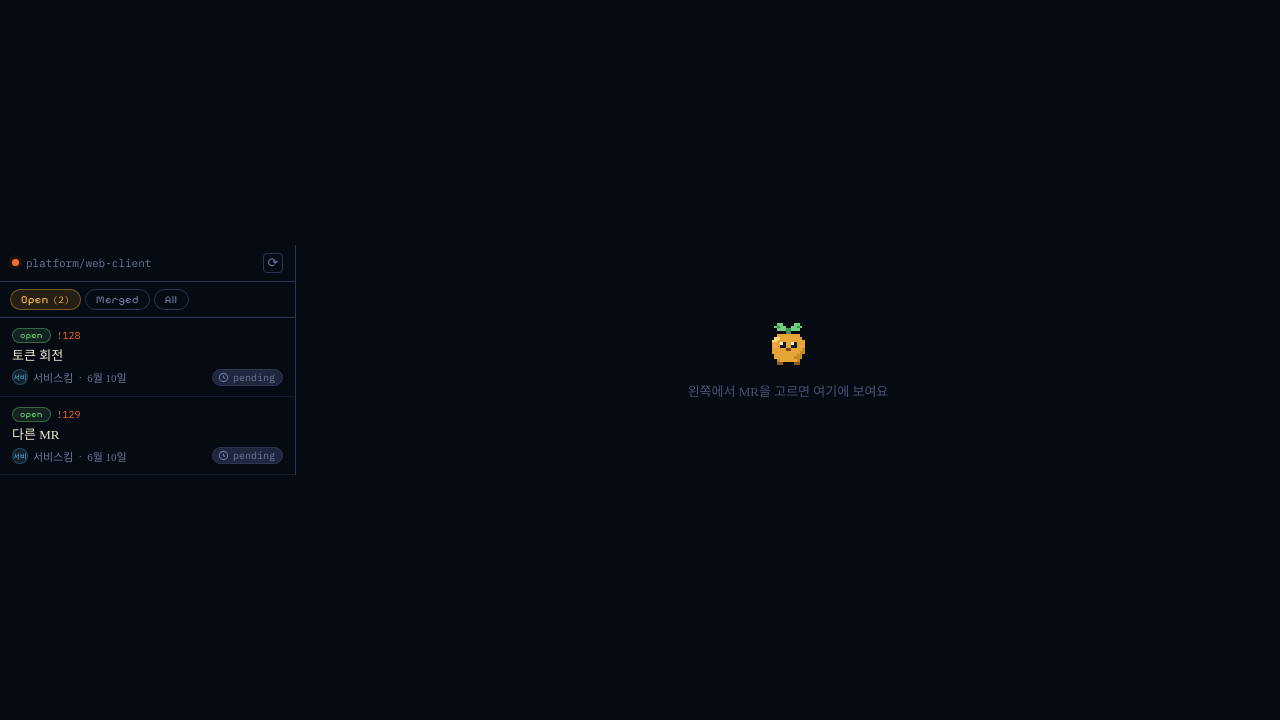
MRView — GitLab MR 뷰 (GL7) › squash 체크는 MR 선택을 바꾸면 리셋된다(다른 MR로 전이 안 됨)
Check: the text "!128" is shown, box [56,329,80,342]
Step 1. Click the text "토큰 회전" → x=38, y=356, box [12,348,63,363]
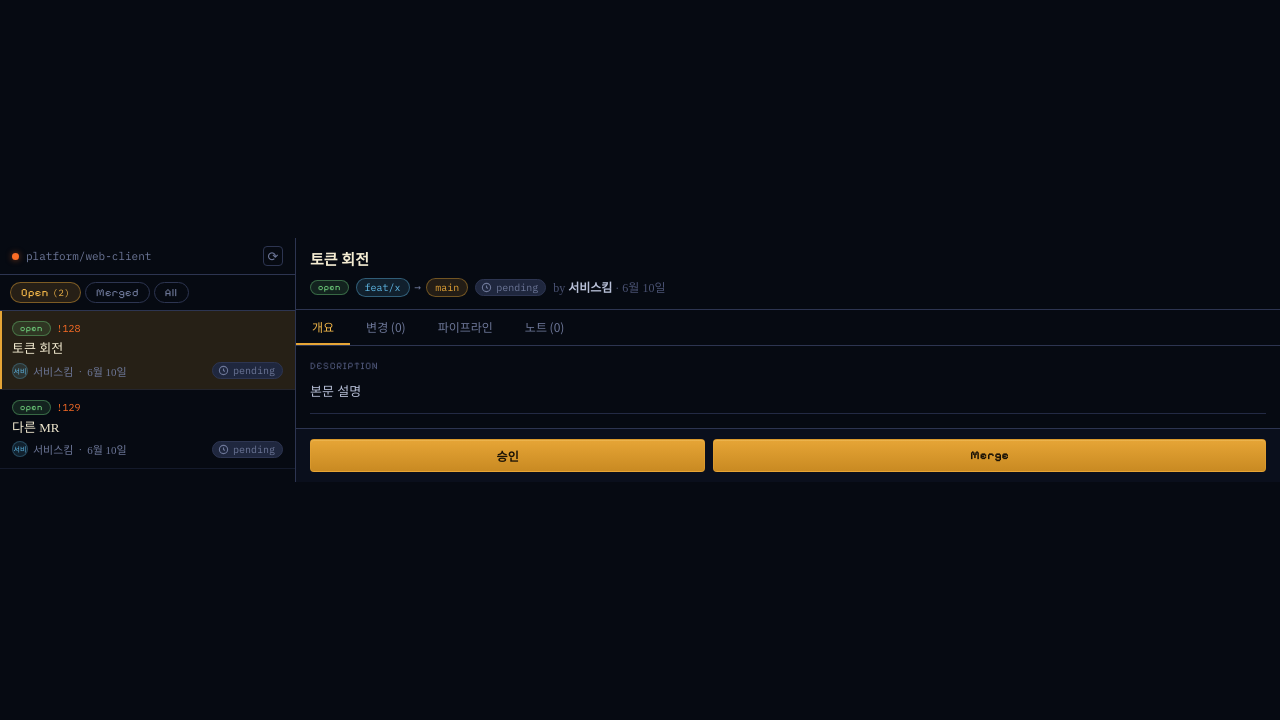
Check: the button "Merge" is shown
Step 2. Click the button "Merge" → x=990, y=455, box [713,438,1266,472]
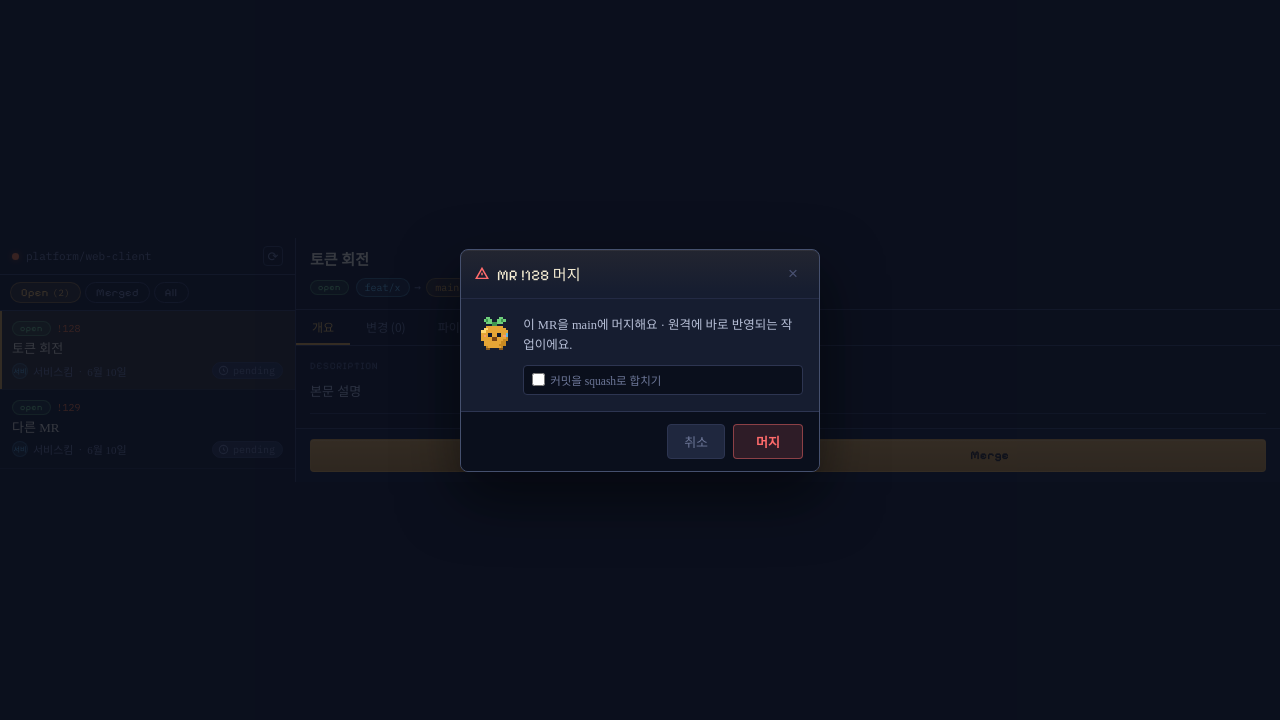
Step 3. Click the checkbox → x=539, y=380, box [532,373,545,386]
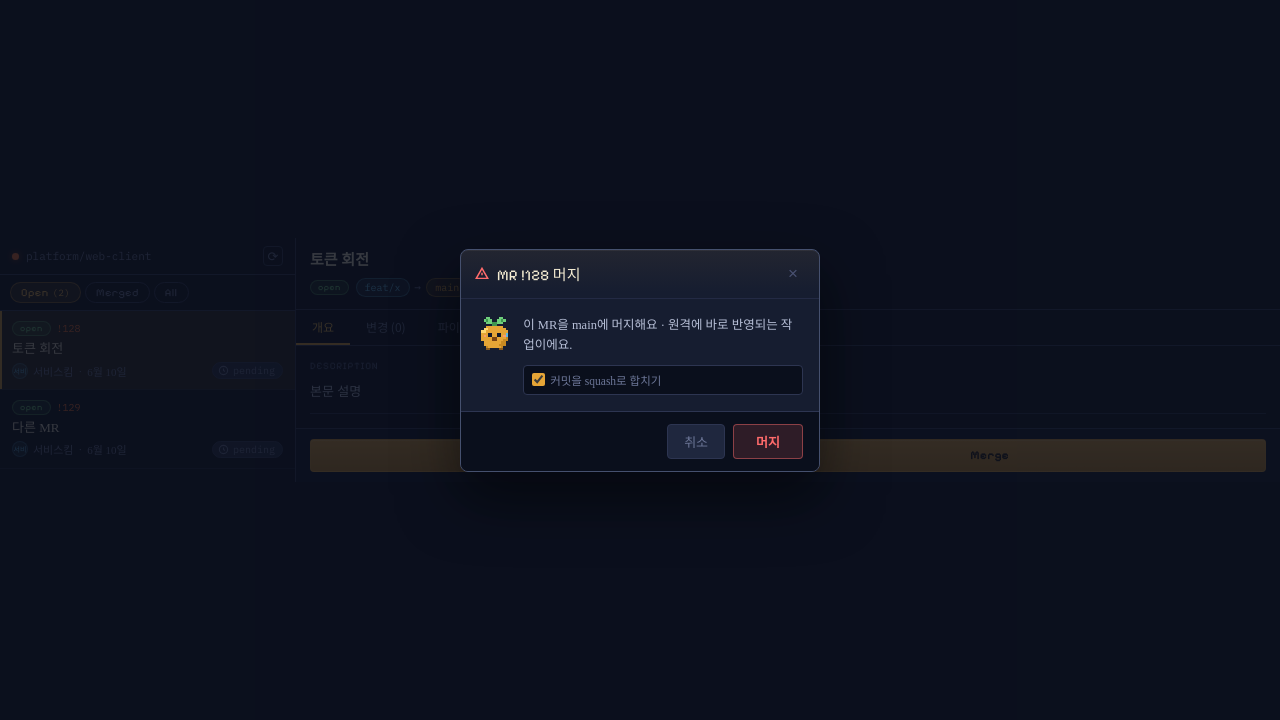
Check: the checkbox is checked, box [532,373,545,386]
Step 4. Click the button "취소" → x=696, y=441, box [667,424,725,458]
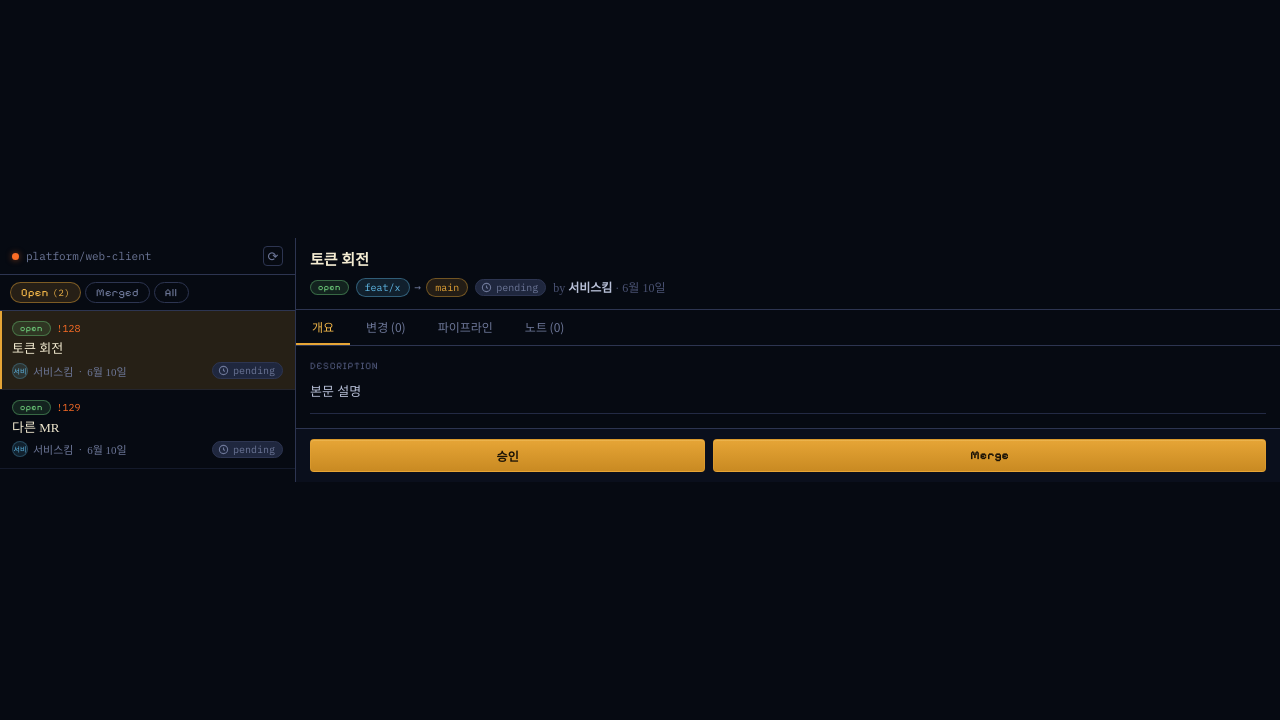
Check: the text "커밋을 squash로 합치기" is gone
Step 5. Click the text "다른 MR" → x=36, y=428, box [12,420,59,435]
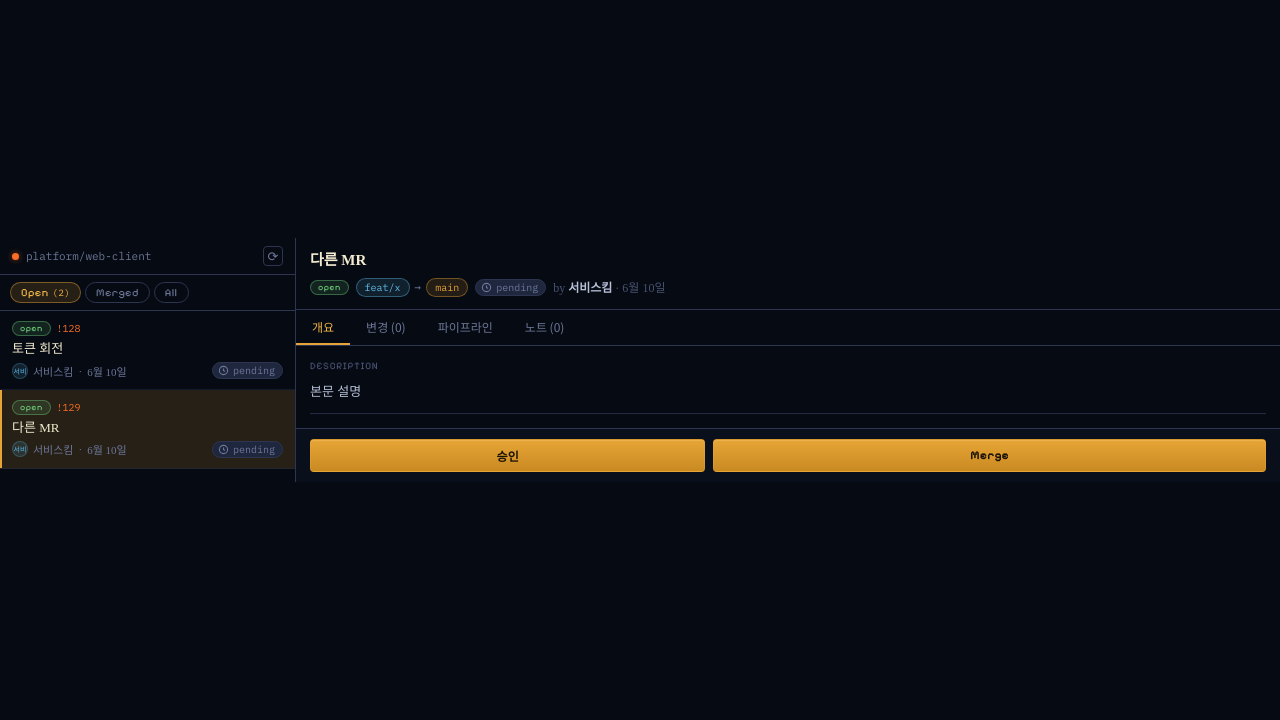
Check: the button "Merge" is shown
Step 6. Click the button "Merge" → x=990, y=455, box [713,438,1266,472]
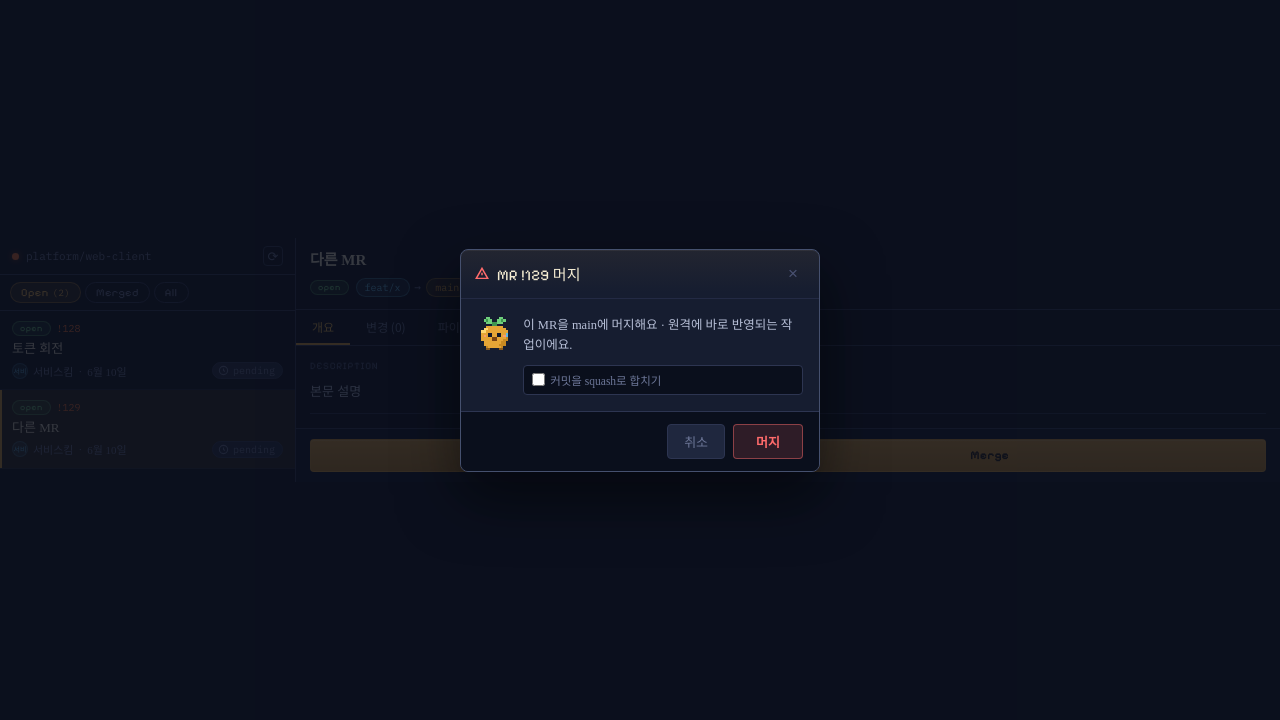
Check: the checkbox is not checked, box [532,373,545,386]
